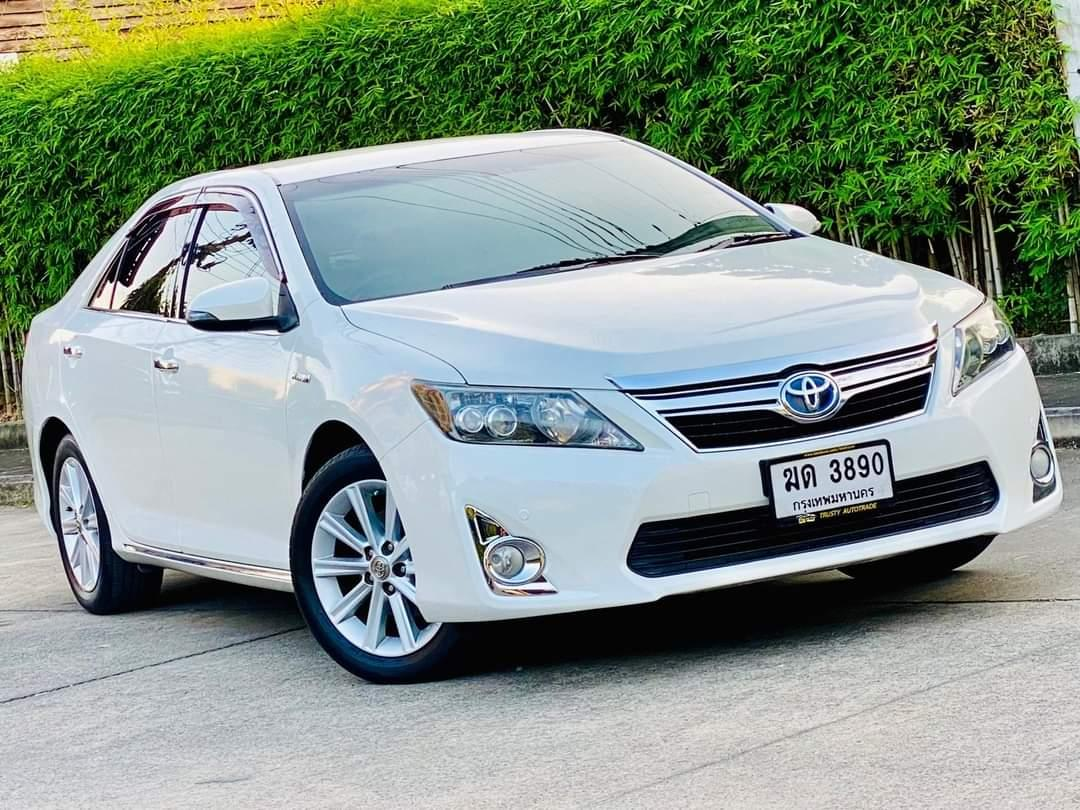license-plate: (768, 437, 898, 538)
